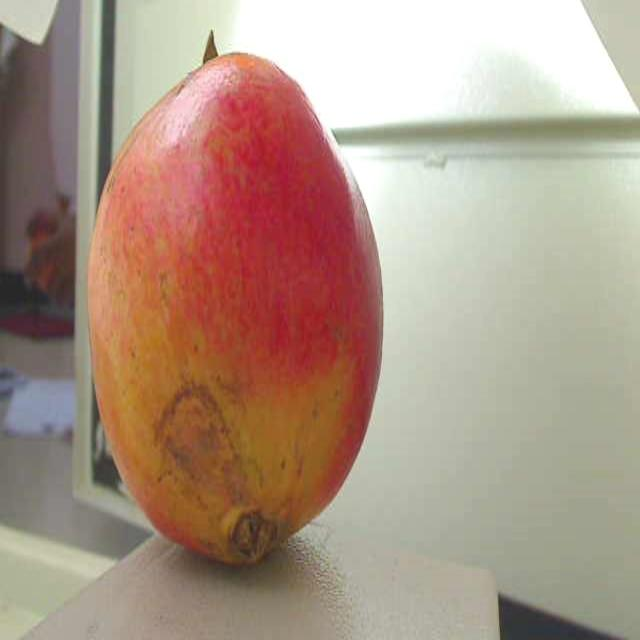pomegranate: (79, 38, 392, 586)
